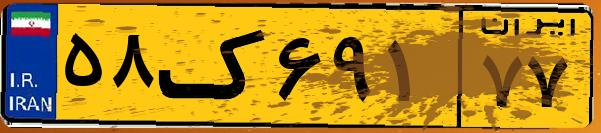1: (385, 28, 445, 110)
5: (57, 26, 110, 100)
6: (270, 28, 330, 110)
7: (475, 38, 525, 113), (525, 38, 570, 115)
8: (110, 28, 158, 98)
9: (330, 28, 385, 110)
ک: (158, 12, 270, 120)
